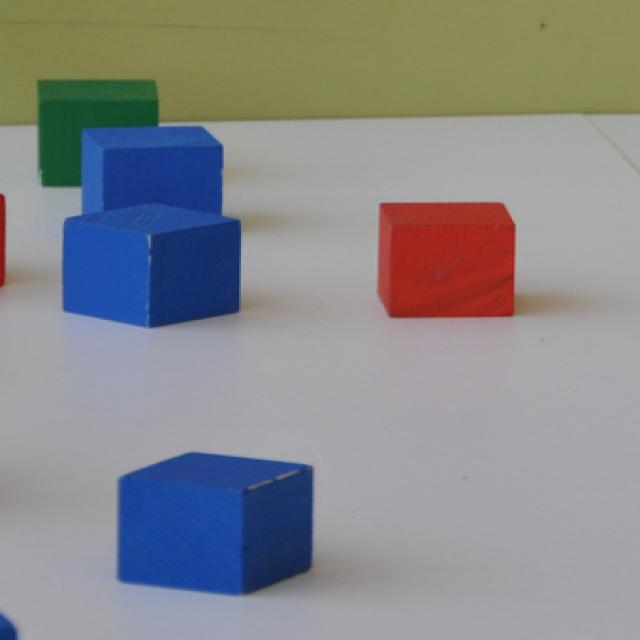bluecube: (117, 452, 317, 598), (68, 199, 244, 323), (82, 125, 226, 215)
green cube: (37, 78, 159, 187)
red cube: (373, 199, 517, 324)
